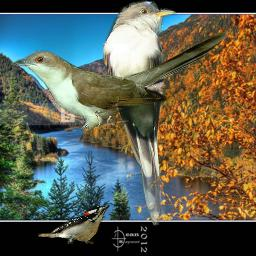Cuckoo: (12, 30, 227, 129), (103, 0, 177, 227)
Woodpecker: (38, 203, 110, 244)
